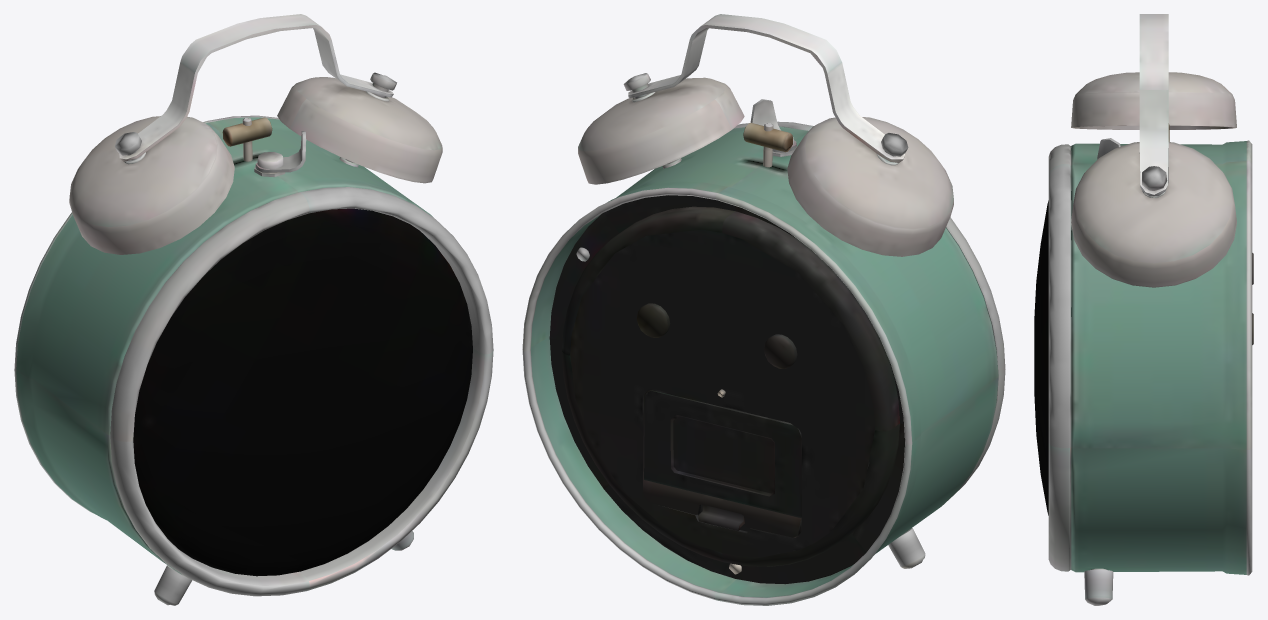
File: alarm-clock.glb
3 views of the same model, side by side, from view 1: azimuth 30°, elevation 25°; view 2: azimuth 150°, elevation 25°; view 3: azimuth 270°, elevation 25° (orthographic). The views are drawn at different scales.
Parts seen in each view (by area): view 1: alarm_clock_01; view 2: alarm_clock_01; view 3: alarm_clock_01.
Boxes of the visible parts, bbox=[...] form: alarm_clock_01: bbox=[14, 14, 493, 605]; alarm_clock_01: bbox=[522, 14, 1005, 605]; alarm_clock_01: bbox=[1034, 14, 1253, 605].
Bounding box in the file's own units: 0.1316 × 0.1741 × 0.0662.
2 materials, 2 textured.
